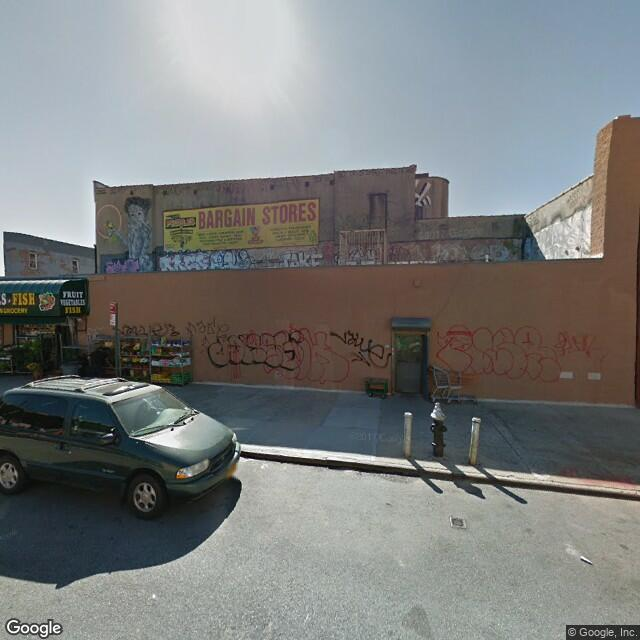litter: (423, 359, 496, 407), (364, 372, 405, 398), (574, 539, 598, 576)
